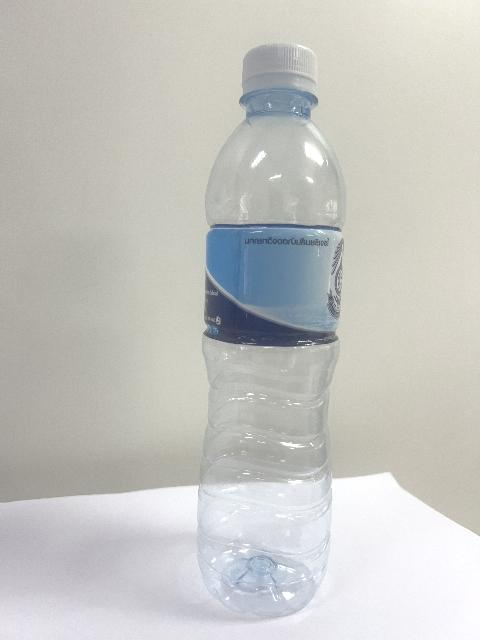bottle: (196, 43, 344, 616)
